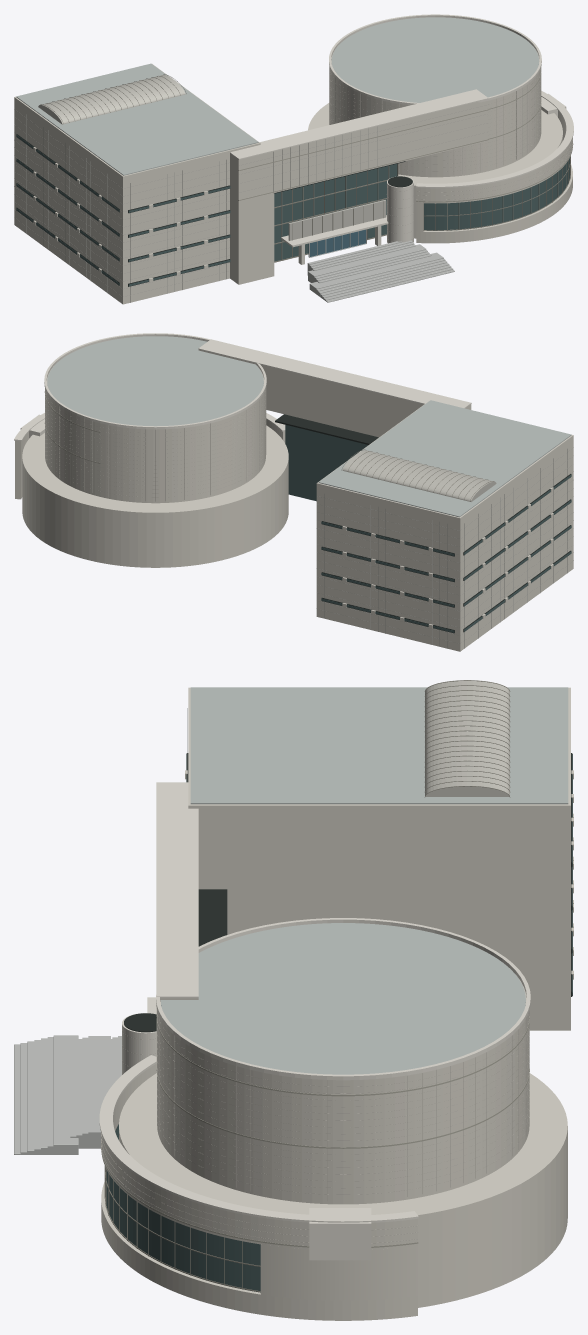
3 views of the same model, one above another, from view 1: azimuth 30°, elevation 25°; view 2: azimuth 150°, elevation 25°; view 3: azimuth 270°, elevation 25° (orthographic). The views are drawn at different scales.
Parts seen in each view (by area): view 1: museum-wing-core__limestone, round-roof-flat-inset__rooflight, museum-roof__rooflight, continuous-upper-stone-beam__limestone, raised-round-hall__limestone, forecourt-stair-flights__concrete, entry-glazed-backdrop__entryglass, lower-gallery-deep-glass__entryglass, entry-left-masonry-pier__limestone, museum-shallow-barrel-roof__pale, upper-beam-thin-coping__limestone_light, lower-gallery-inner-core__limestone (+23 smaller); view 2: museum-wing-core__limestone, lower-gallery-inner-core__limestone, raised-round-hall__limestone, round-roof-flat-inset__rooflight, museum-roof__rooflight, continuous-upper-stone-beam__limestone, museum-shallow-barrel-roof__pale, upper-beam-thin-coping__limestone_light, entry-glazed-backdrop__entryglass, round-roof-low-coping__limestone_light, museum-west-stone-joints__joint, museum-rear-estimated-slit-glass__entryglass (+9 smaller); view 3: museum-wing-core__limestone, raised-round-hall__limestone, round-roof-flat-inset__rooflight, museum-roof__rooflight, lower-gallery-inner-core__limestone, museum-shallow-barrel-roof__pale, upper-beam-thin-coping__limestone_light, forecourt-stair-flights__concrete, gallery-end-stone-wall__limestone, lower-gallery-upper-stone-band__limestone, lower-gallery-stone-plinth__limestone, lower-gallery-deep-glass__entryglass (+11 smaller).
Boxes of the visible parts, x1=… form: museum-wing-core__limestone: x1=14, y1=64, x2=260, y2=304; round-roof-flat-inset__rooflight: x1=331, y1=17, x2=539, y2=102; museum-roof__rooflight: x1=16, y1=63, x2=258, y2=175; continuous-upper-stone-beam__limestone: x1=230, y1=101, x2=488, y2=201; raised-round-hall__limestone: x1=330, y1=46, x2=541, y2=177; forecourt-stair-flights__concrete: x1=307, y1=239, x2=454, y2=302; entry-glazed-backdrop__entryglass: x1=274, y1=164, x2=397, y2=261; lower-gallery-deep-glass__entryglass: x1=424, y1=158, x2=569, y2=230; entry-left-masonry-pier__limestone: x1=230, y1=193, x2=274, y2=284; museum-shallow-barrel-roof__pale: x1=38, y1=75, x2=185, y2=124; upper-beam-thin-coping__limestone_light: x1=230, y1=89, x2=488, y2=159; lower-gallery-inner-core__limestone: x1=308, y1=103, x2=562, y2=238; museum-wing-core__limestone: x1=316, y1=400, x2=573, y2=651; lower-gallery-inner-core__limestone: x1=22, y1=425, x2=288, y2=567; raised-round-hall__limestone: x1=45, y1=366, x2=265, y2=503; round-roof-flat-inset__rooflight: x1=47, y1=336, x2=263, y2=426; museum-roof__rooflight: x1=318, y1=400, x2=571, y2=517; continuous-upper-stone-beam__limestone: x1=198, y1=349, x2=471, y2=437; museum-shallow-barrel-roof__pale: x1=342, y1=450, x2=496, y2=501; upper-beam-thin-coping__limestone_light: x1=198, y1=339, x2=471, y2=408; entry-glazed-backdrop__entryglass: x1=285, y1=425, x2=368, y2=501; round-roof-low-coping__limestone_light: x1=44, y1=333, x2=266, y2=429; museum-west-stone-joints__joint: x1=460, y1=448, x2=573, y2=648; museum-rear-estimated-slit-glass__entryglass: x1=321, y1=521, x2=454, y2=632; museum-wing-core__limestone: x1=188, y1=687, x2=570, y2=1030; raised-round-hall__limestone: x1=157, y1=968, x2=529, y2=1204; round-roof-flat-inset__rooflight: x1=160, y1=923, x2=525, y2=1074; museum-roof__rooflight: x1=190, y1=687, x2=568, y2=804; lower-gallery-inner-core__limestone: x1=119, y1=1073, x2=567, y2=1307; museum-shallow-barrel-roof__pale: x1=425, y1=680, x2=509, y2=796; upper-beam-thin-coping__limestone_light: x1=156, y1=782, x2=198, y2=998; forecourt-stair-flights__concrete: x1=14, y1=1035, x2=121, y2=1154; gallery-end-stone-wall__limestone: x1=260, y1=1244, x2=417, y2=1300; lower-gallery-upper-stone-band__limestone: x1=101, y1=1064, x2=417, y2=1249; lower-gallery-stone-plinth__limestone: x1=101, y1=1182, x2=417, y2=1320; lower-gallery-deep-glass__entryglass: x1=106, y1=1124, x2=260, y2=1292.
Size of the model in its own units: 94.09 by 25.46 by 54.13.
